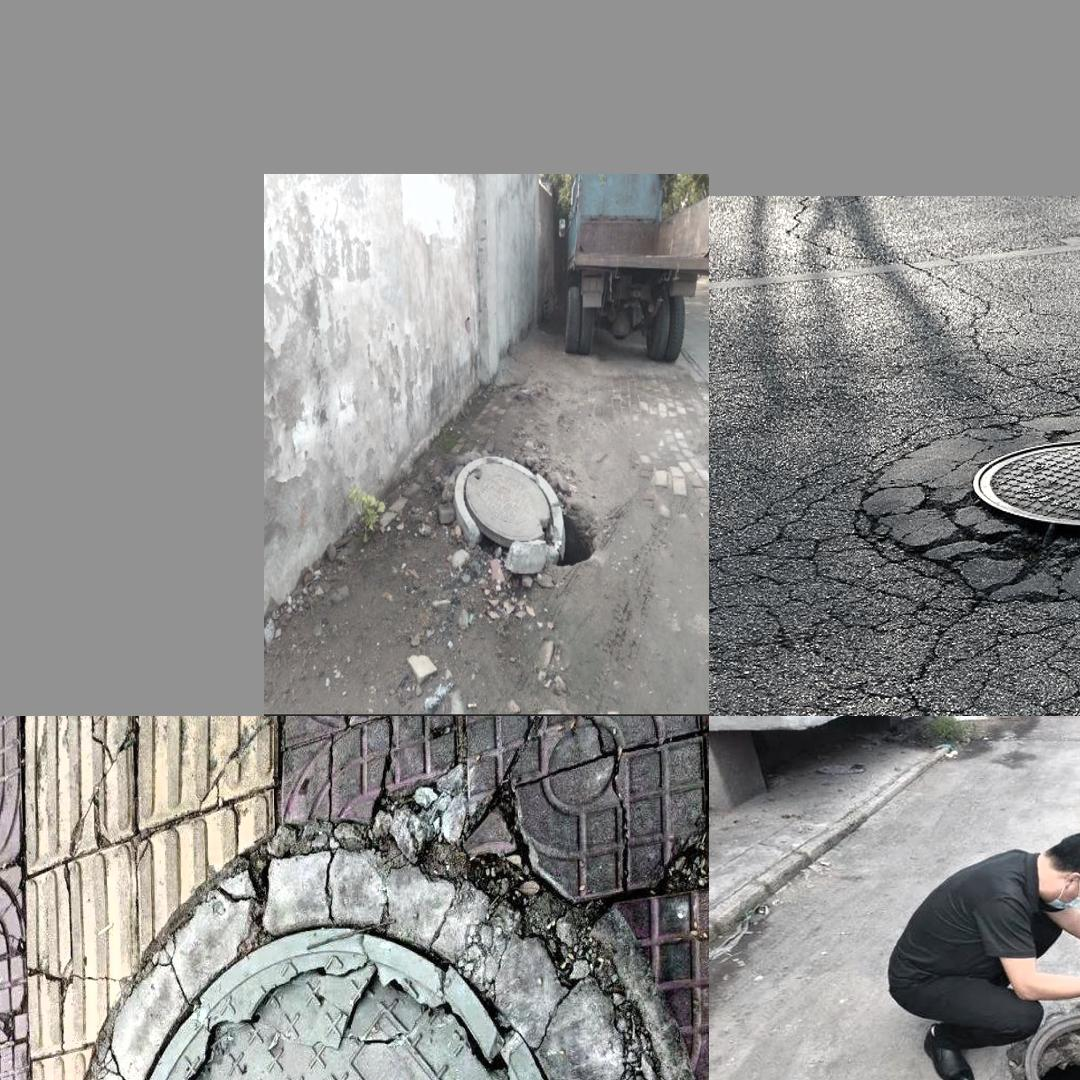circle: (52, 826, 670, 1080), (850, 388, 1080, 628), (452, 454, 585, 576), (965, 971, 1080, 1080)
